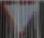Give way: (3, 1, 36, 37)
